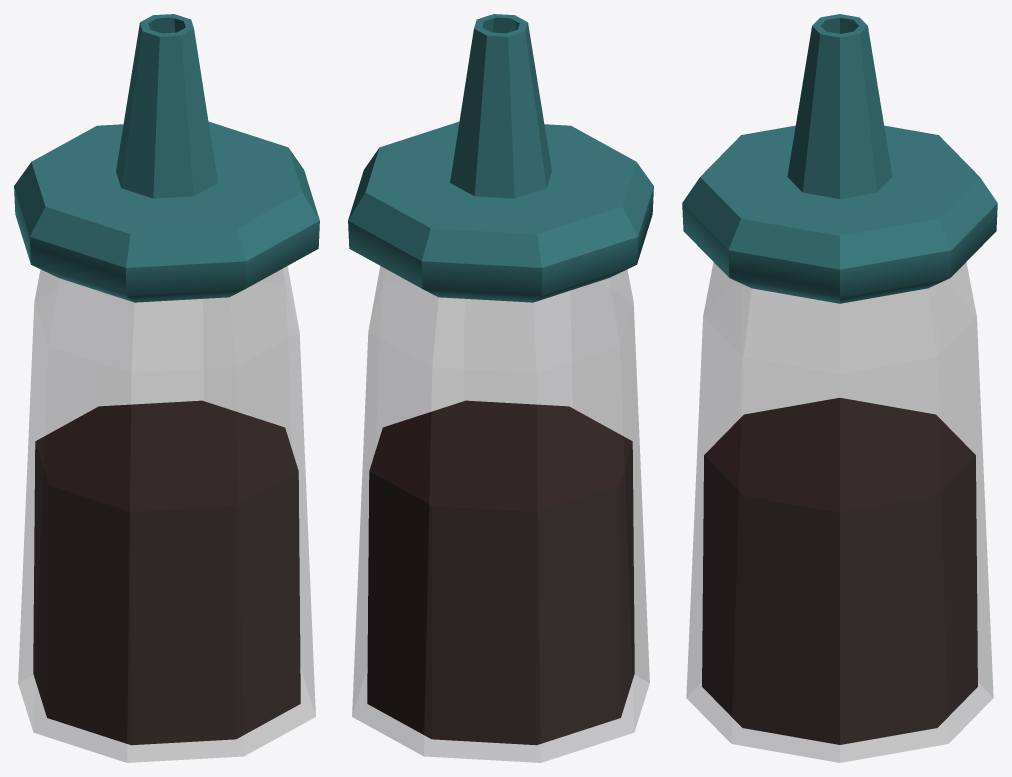
File: soy_sauce.fbx
3 renders of one model, left to right at view 1: azimuth 30°, elevation 25°; view 2: azimuth 150°, elevation 25°; view 3: azimuth 270°, elevation 25°, orthographic.
Parts seen in each view (by area): view 1: polySurface1; view 2: polySurface1; view 3: polySurface1.
Part boxes in pixels (x1,y1,x2,y2): polySurface1: (14,14,319,762); polySurface1: (348,14,653,762); polySurface1: (682,14,997,762).
Size of the model in its own units: 2.48 by 5.83 by 2.48.
